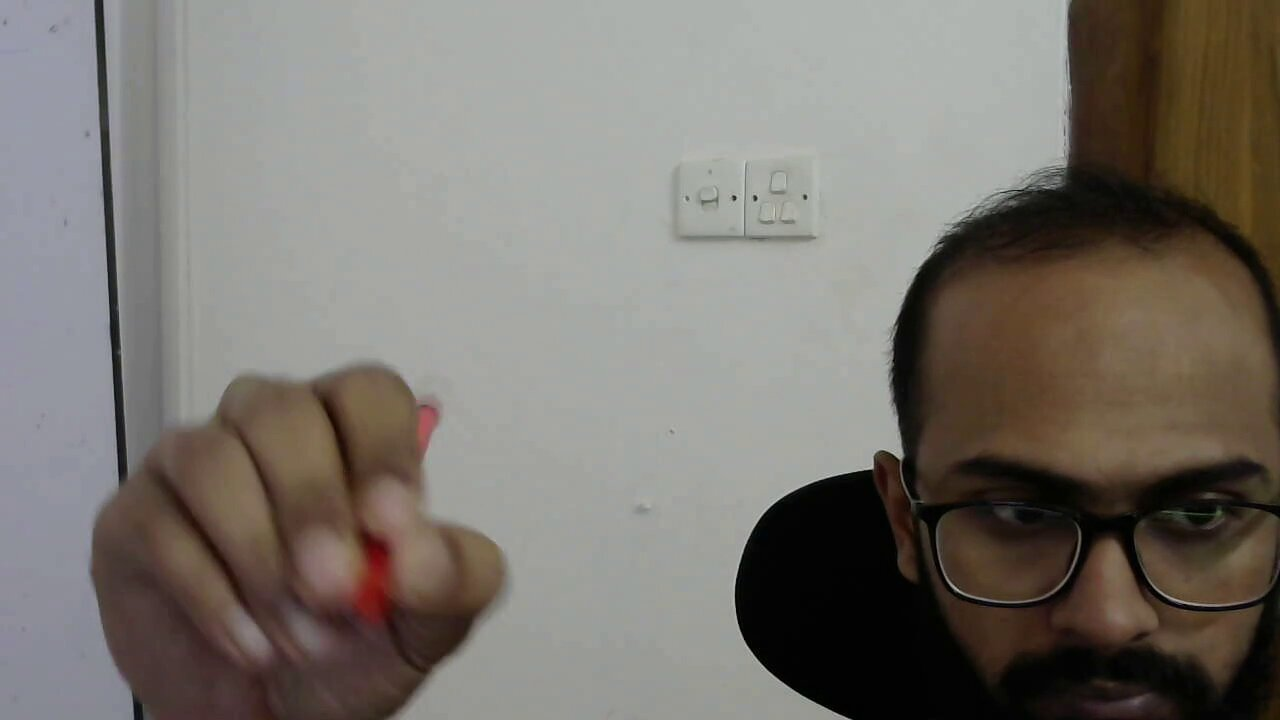pointer: (88, 361, 505, 719)
